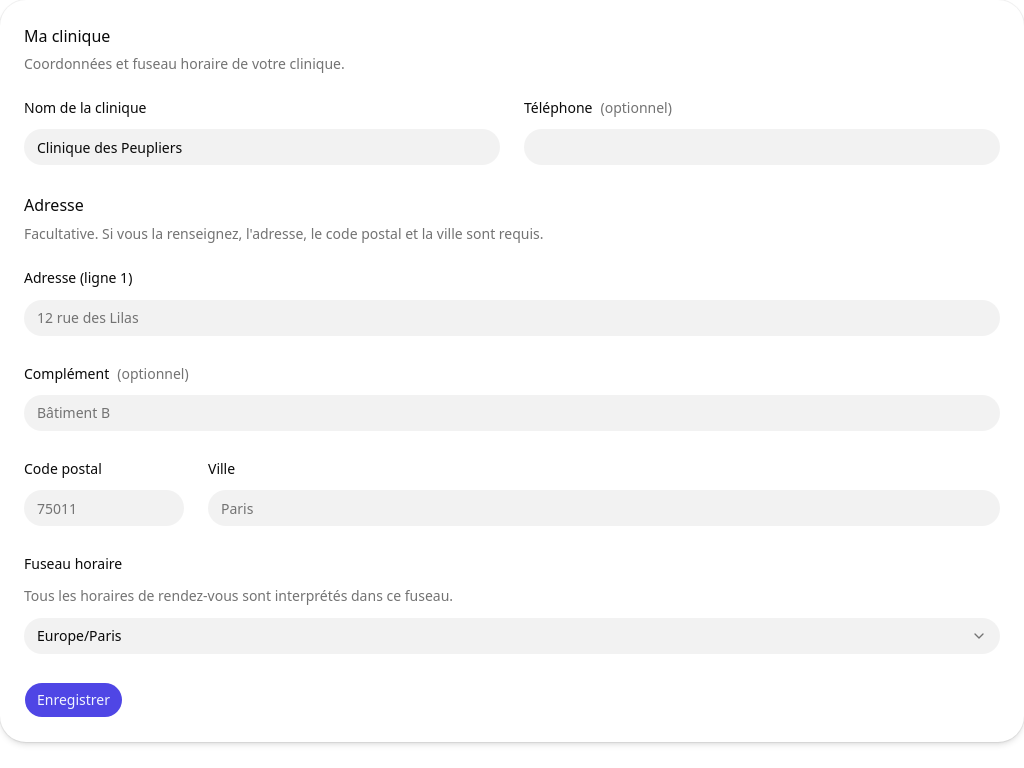
ClinicForm — enregistrement › place une erreur de champ sous le bon champ
Click the button "Enregistrer" at (74, 700), box [24,682,123,718]
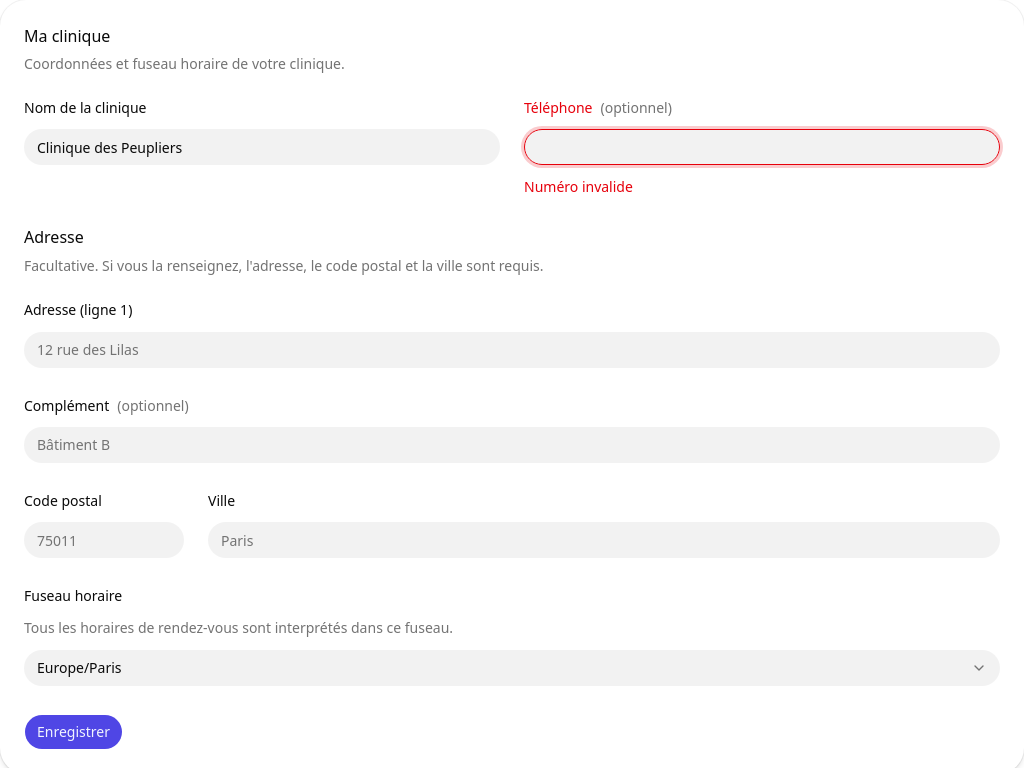
Expected: the text "Numéro invalide" is shown, [524,177,633,196]
